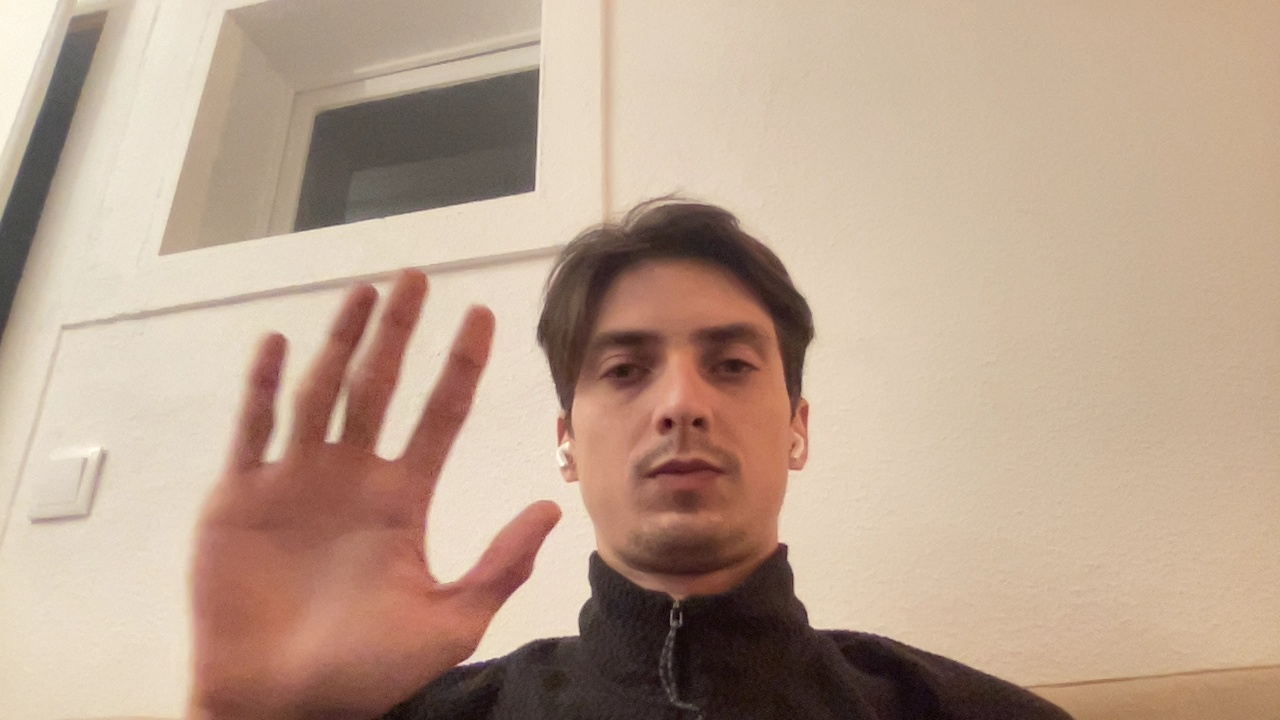Hello: (142, 228, 568, 691)
